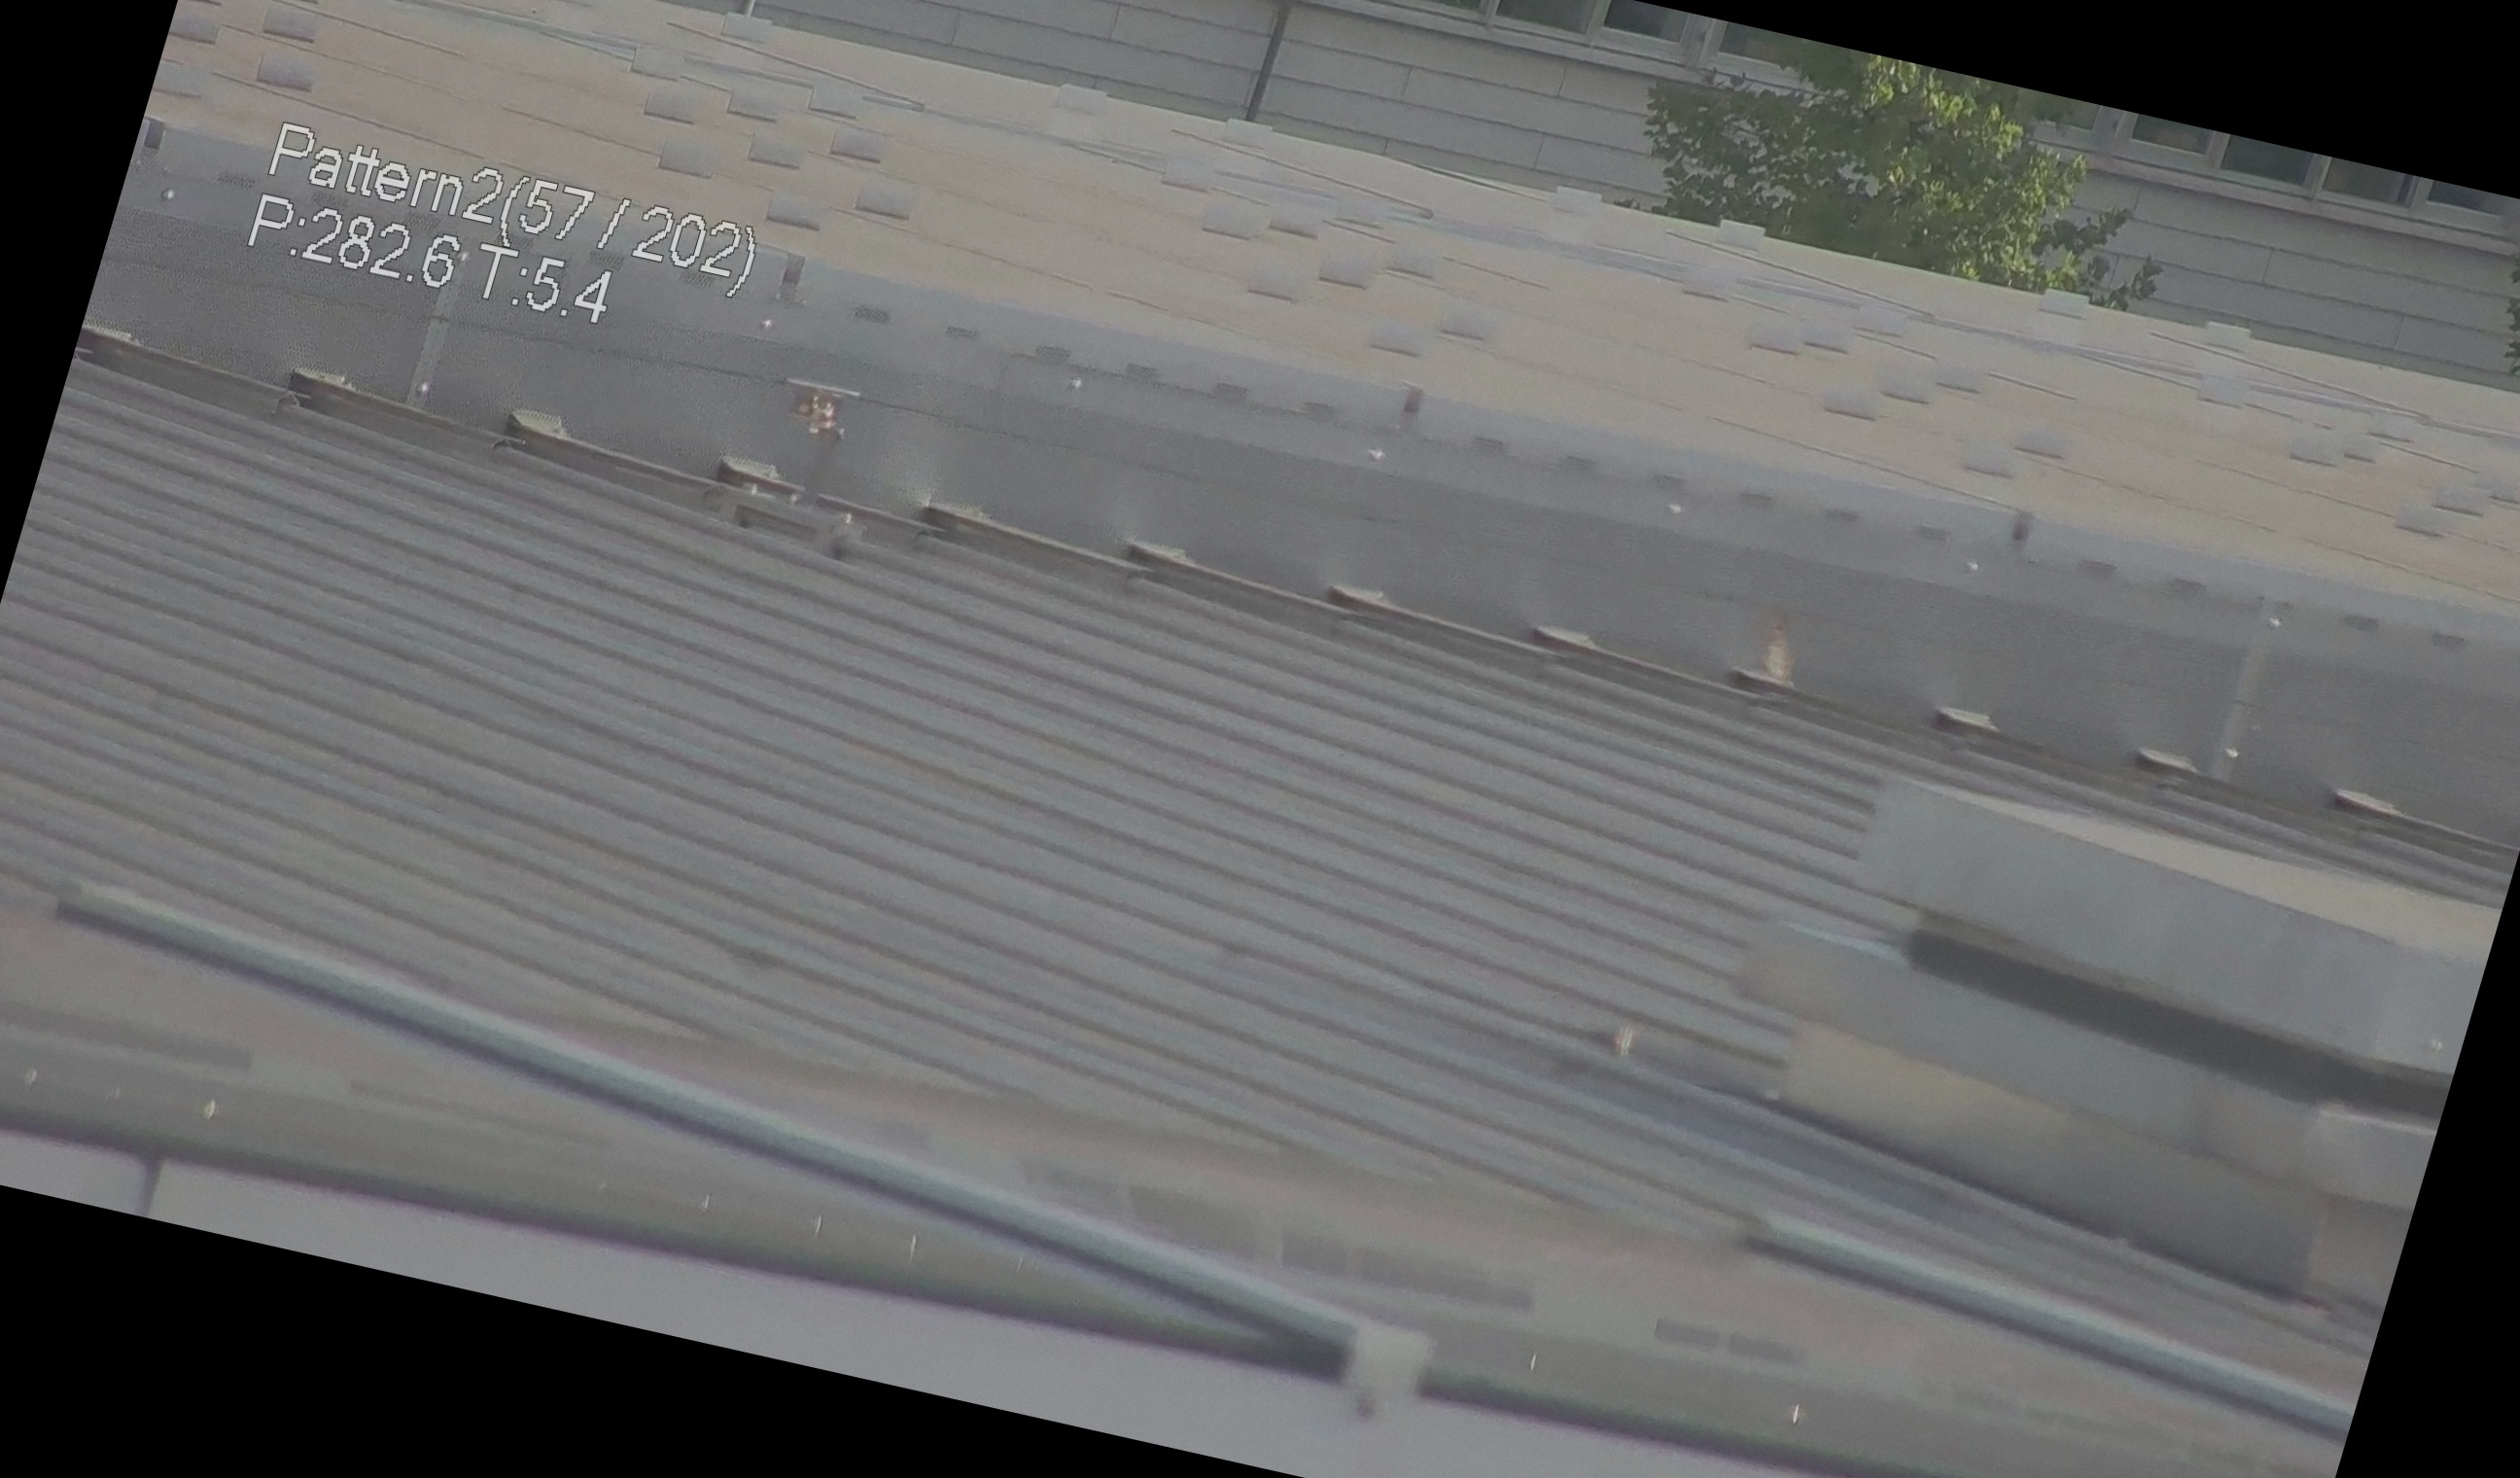Other: (1734, 588, 1829, 699)
